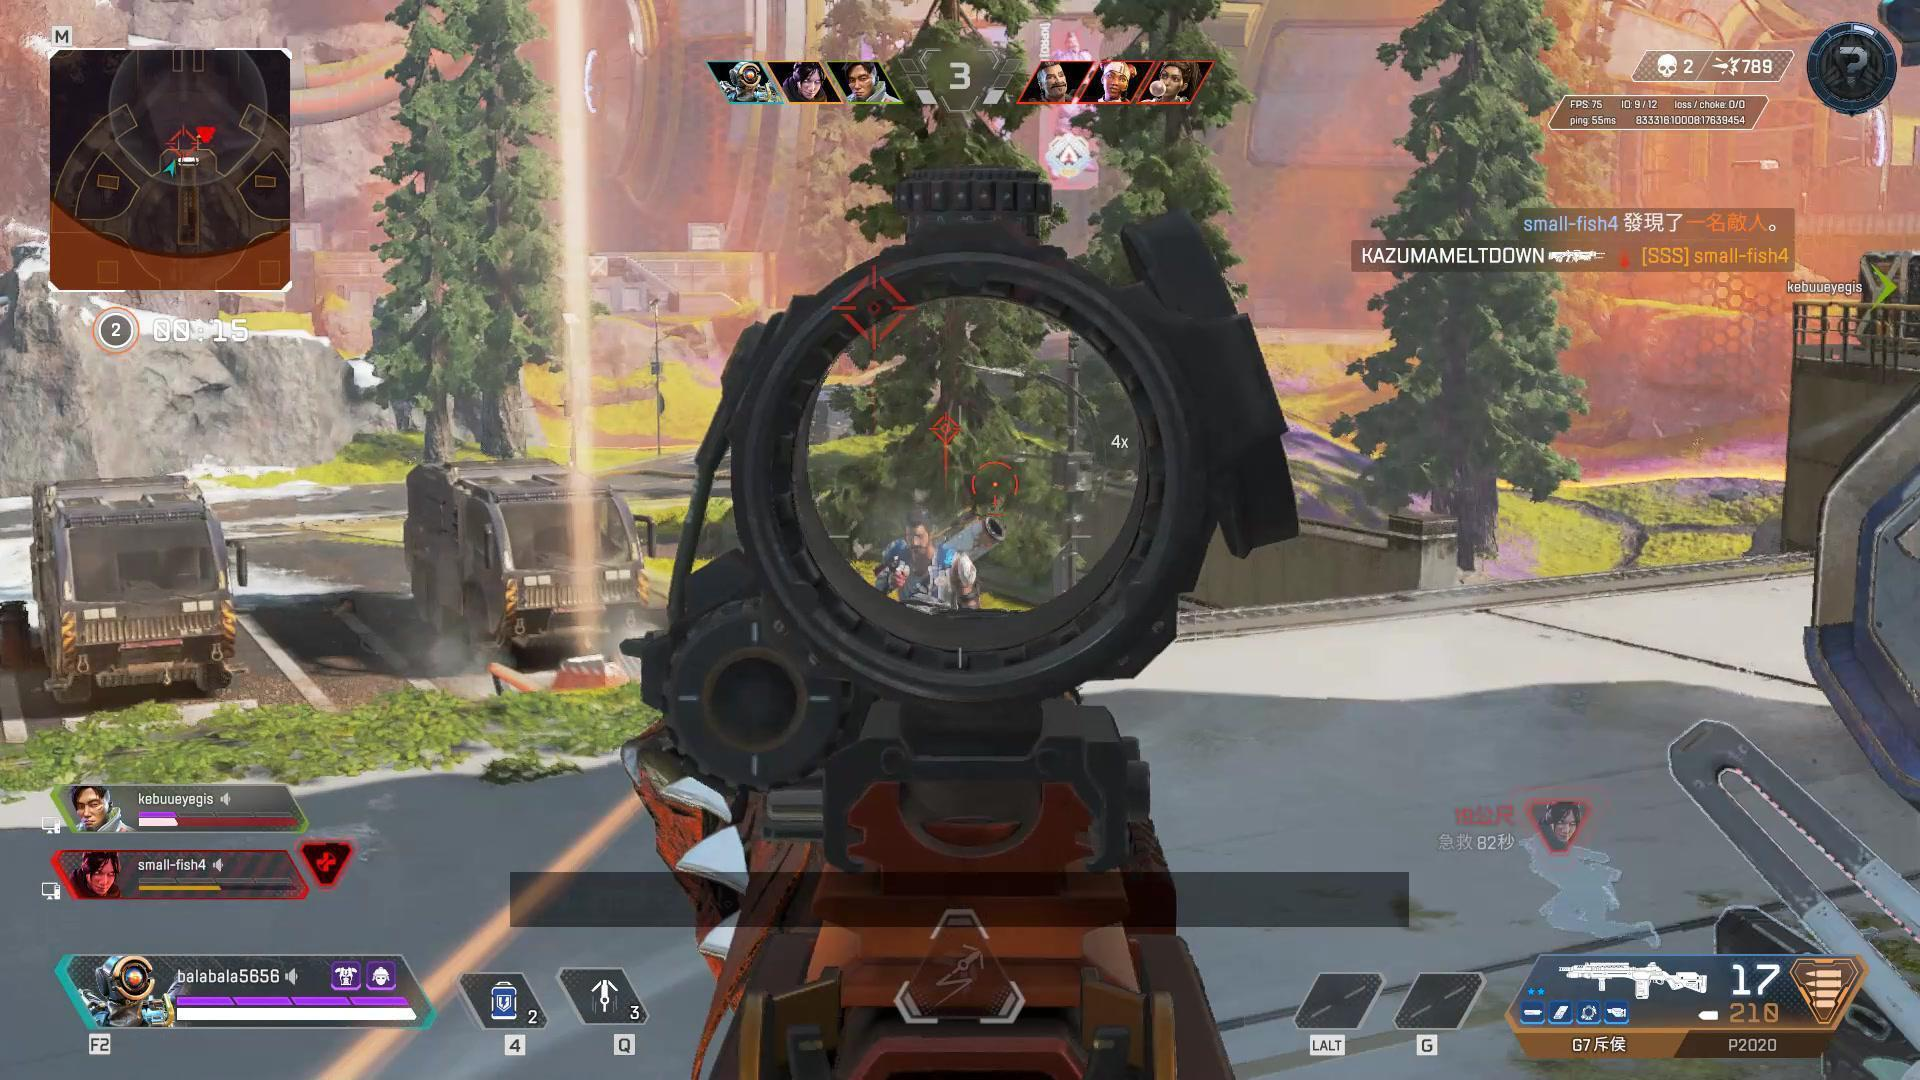avatar: (870, 509, 980, 616)
